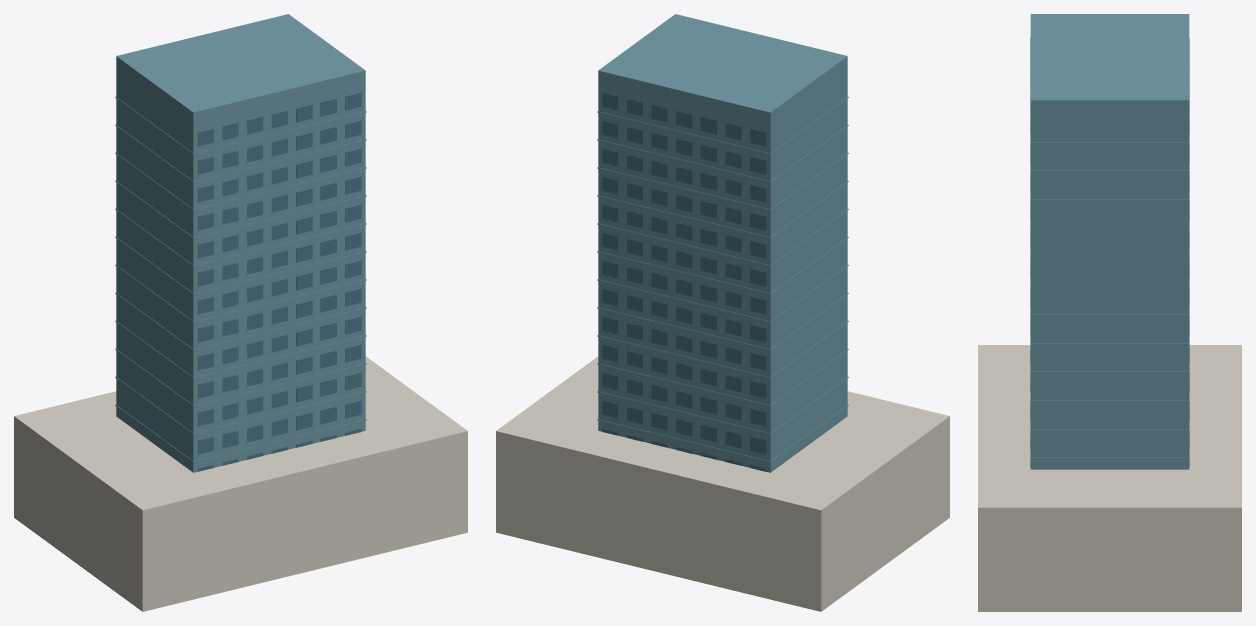
File: source.glb
3 renders of one model, left to right at view 1: azimuth 30°, elevation 25°; view 2: azimuth 150°, elevation 25°; view 3: azimuth 270°, elevation 25°, orthographic. The views are drawn at different scales.
Visible parts, largest first — view 1: worldgen; view 2: worldgen; view 3: worldgen.
Boxes of the visible parts, bbox=[...] form: worldgen: bbox=[14, 14, 467, 611]; worldgen: bbox=[496, 14, 949, 611]; worldgen: bbox=[978, 14, 1241, 611].
Size of the model in its own units: 70 by 95 by 48.
